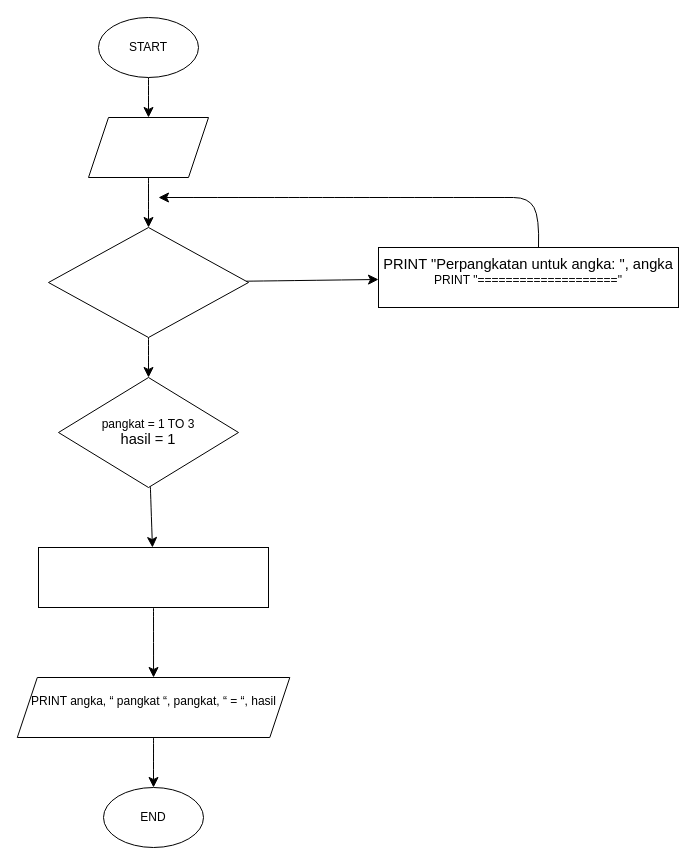
The diagram is 697 pixels wide and 865 high, and some of its shapes have lost their labels. The centre of each missing label's shape, as x and y in pixels:
angka 1 sampai 5: [148,282]
angka; pangkat; hasil: [148,147]
FOR i = 1 sampai pangkat DO hasil = hasil * angka: [153,577]
